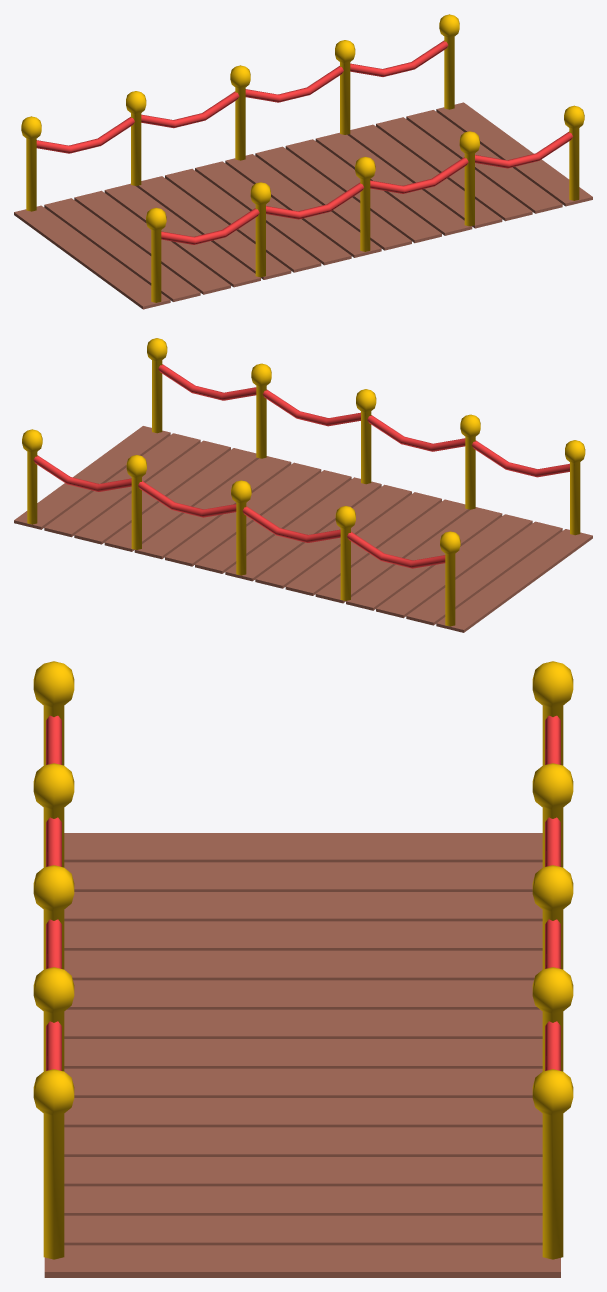
Rendered from Dock.fbx.
3 renders of one model, top to bottom at view 1: azimuth 30°, elevation 25°; view 2: azimuth 150°, elevation 25°; view 3: azimuth 270°, elevation 25°, orthographic. The views are drawn at different scales.
Parts seen in each view (by area): view 1: Dock; view 2: Dock; view 3: Dock.
Part boxes in pixels (x1,y1,x2,y2): Dock: (14, 14, 592, 309); Dock: (14, 338, 592, 632); Dock: (33, 661, 573, 1277).
Size of the model in its own units: 965 by 195 by 501.
